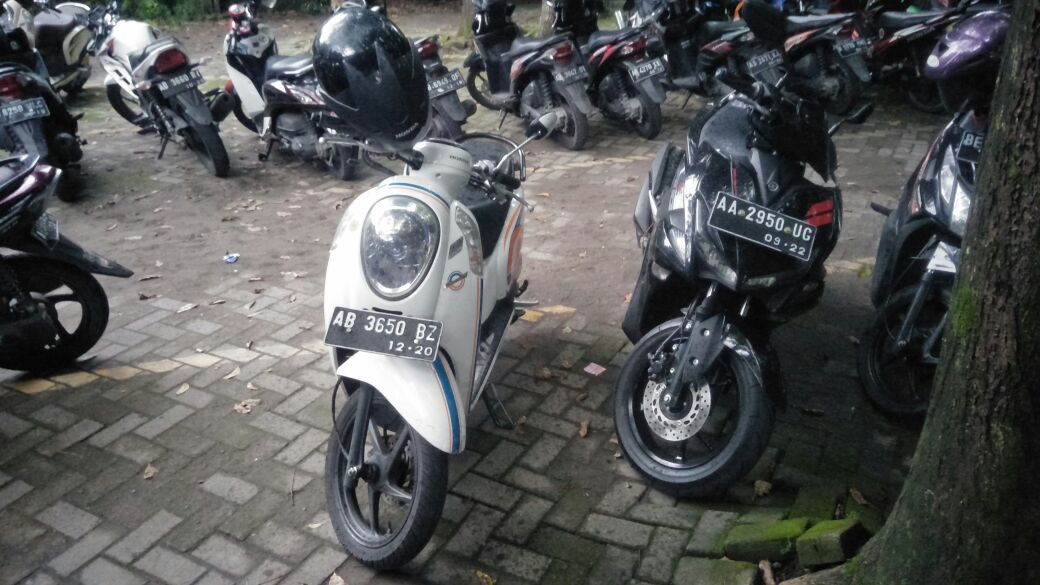plate: (708, 192, 816, 261), (324, 306, 444, 360), (159, 69, 203, 97), (428, 67, 468, 97), (627, 58, 666, 81), (748, 49, 782, 69)
